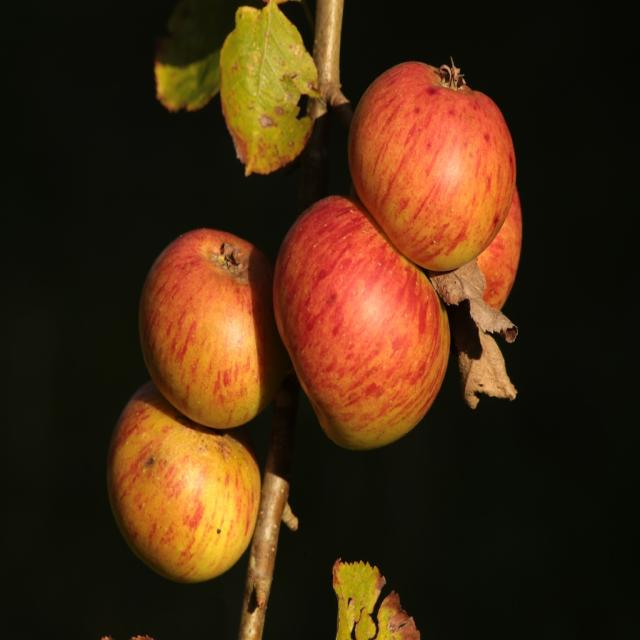Healty Apple: (274, 195, 452, 455), (341, 47, 506, 278), (107, 381, 266, 583), (138, 224, 285, 433), (476, 187, 524, 313)
